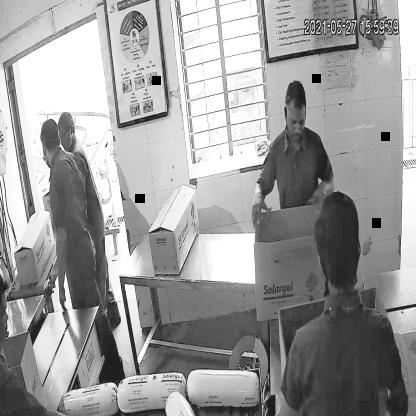no_goggles: (282, 110, 308, 131)
